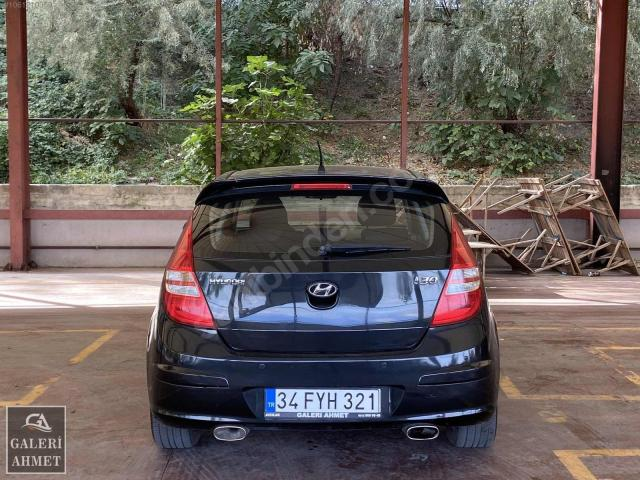plaka: (264, 388, 382, 418)
